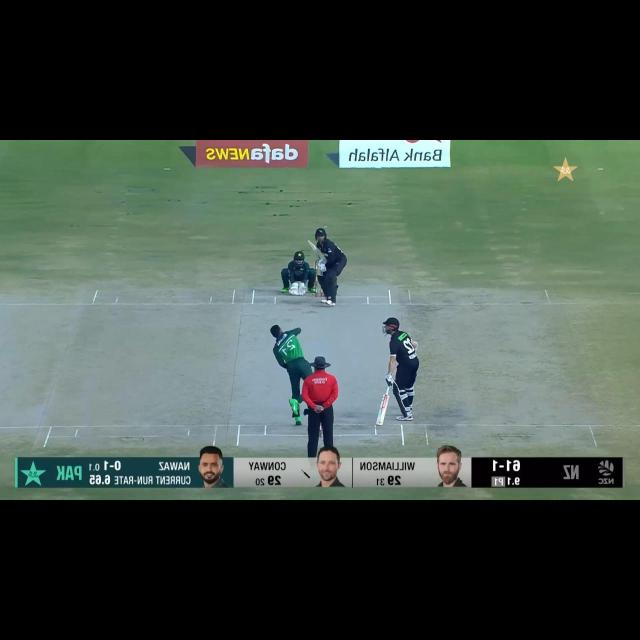bat: (375, 392, 392, 428), (307, 239, 321, 260)
toe: (374, 416, 384, 426), (306, 237, 313, 246)
